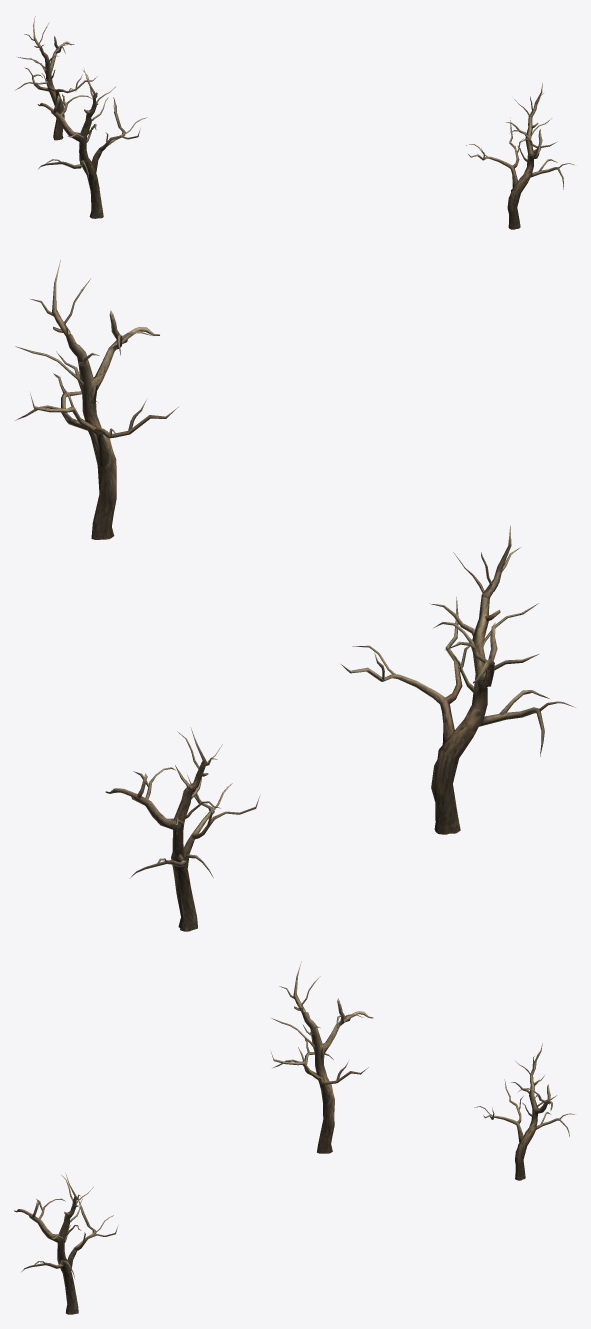
Rendered from kushu03.fbx.
3 views of the same model, one above another, from view 1: azimuth 30°, elevation 25°; view 2: azimuth 150°, elevation 25°; view 3: azimuth 270°, elevation 25° (orthographic). The views are drawn at different scales.
Parts seen in each view (by area): view 1: kushu03; view 2: kushu03; view 3: kushu03.
Part boxes in pixels (x1,y1,x2,y2): kushu03: (15,16,574,229); kushu03: (15,260,575,931); kushu03: (14,961,574,1314).
Bounding box in the file's own units: 3076 × 1173 × 3358.
1 material, 1 textured.
